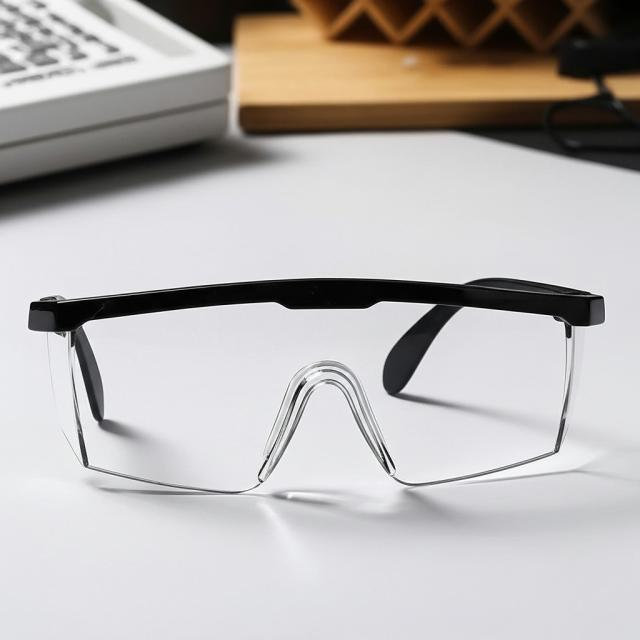oculos-epi: (28, 278, 603, 492)
